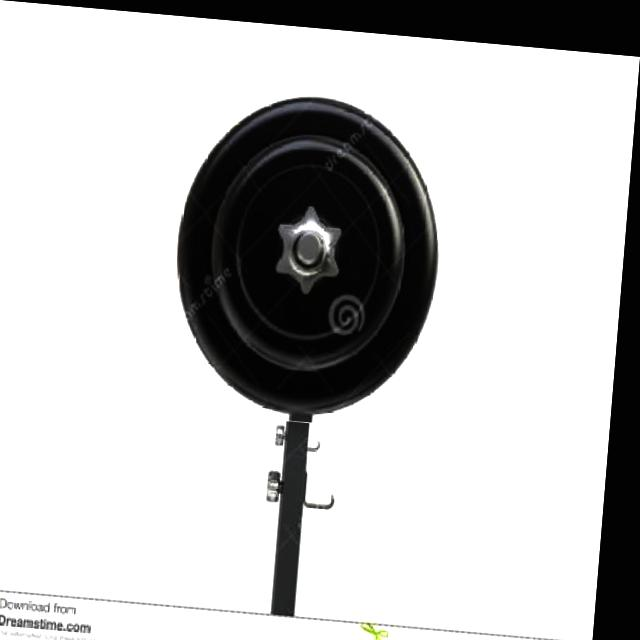barbell: (154, 69, 464, 427)
